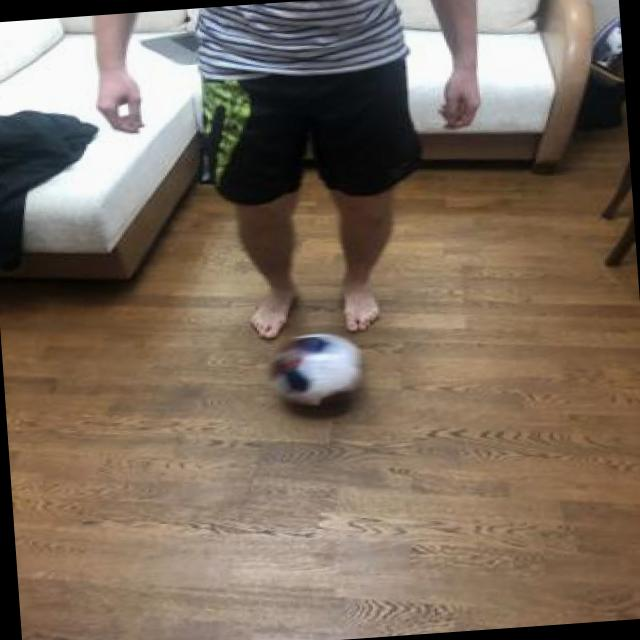Soccer Ball: (259, 325, 369, 412)
